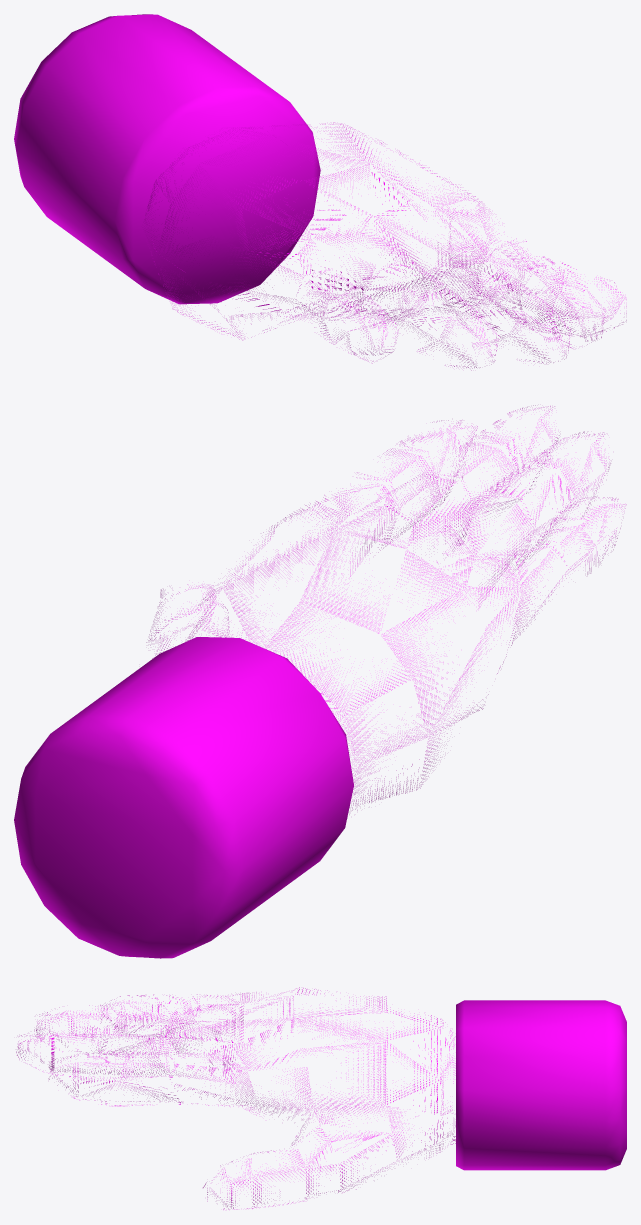
File: ava_handA__ava_handA.glb
3 views of the same model, one above another, from view 1: azimuth 30°, elevation 25°; view 2: azimuth 150°, elevation 25°; view 3: azimuth 270°, elevation 25° (orthographic). The views are drawn at different scales.
Parts seen in each view (by area): view 1: polygon1, polygon0; view 2: polygon1, polygon0; view 3: polygon1, polygon0.
Boxes of the visible parts, x1,y1,x2,y2 form: polygon1: (14,14,320,304); polygon0: (142,122,626,370); polygon1: (14,637,353,958); polygon0: (146,405,626,814); polygon1: (456,1000,626,1170); polygon0: (16,987,455,1209).
Bounding box in the file's own units: 1.04 × 0.6047 × 2.15.
1 material, 1 textured.
